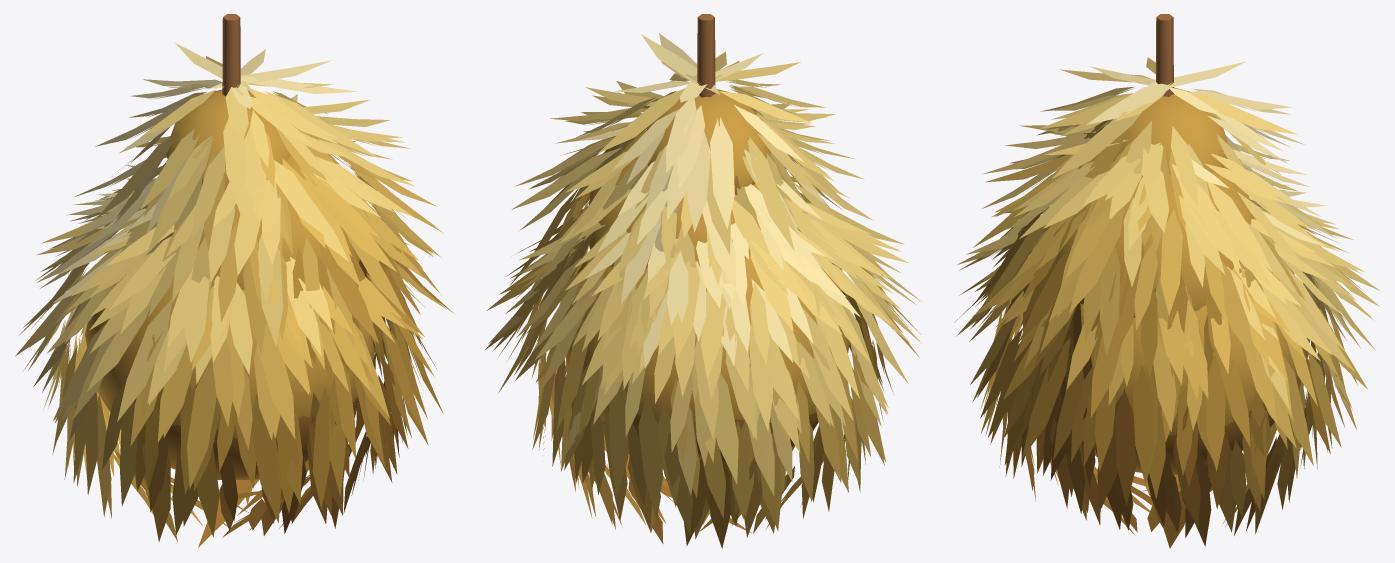
Rendered from Haystack.glb.
3 renders of one model, left to right at view 1: azimuth 30°, elevation 25°; view 2: azimuth 150°, elevation 25°; view 3: azimuth 270°, elevation 25°, orthographic.
Parts seen in each view (by area): view 1: Rustle, Body; view 2: Rustle, Body; view 3: Rustle, Body.
Part boxes in pixels (x1,y1,x2,y2): Rustle: (15,43,453,547); Body: (85,14,374,479); Rustle: (485,33,921,548); Body: (566,14,849,473); Rustle: (954,57,1379,548); Body: (1023,14,1306,474).
Bounding box in the file's own units: 3.95 × 5.21 × 3.95.
Materials: 2 (2 with a texture image).
